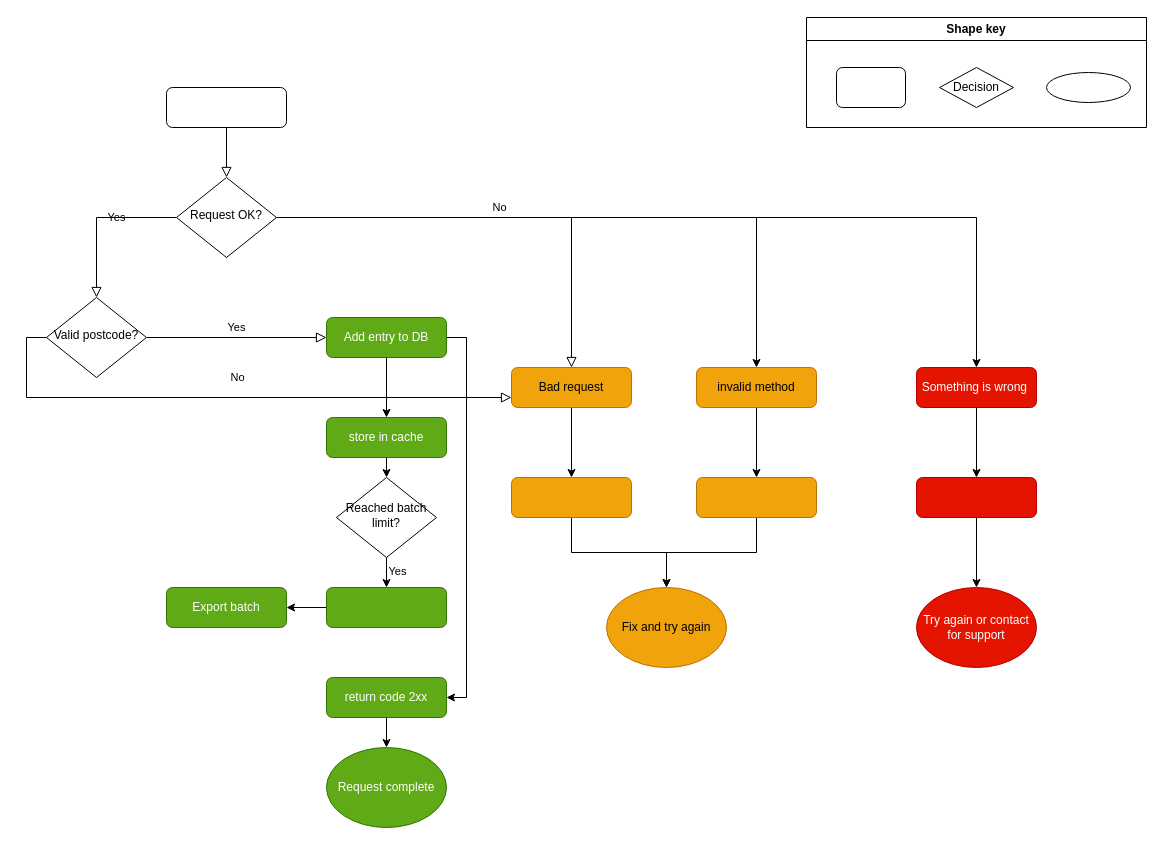
Image size: 1164x845. Some labels were removed from this diagram. Each missing label, with the centre of its shape:
"API Endpoint /orders" goes at point (226, 107).
"Create batch" goes at point (386, 607).
"Process" goes at point (871, 87).
"Return 400 error" goes at point (571, 497).
"Return 405 error" goes at point (756, 497).
"Return 5xx error" goes at point (976, 497).
"Terminatior" goes at point (1088, 87).
